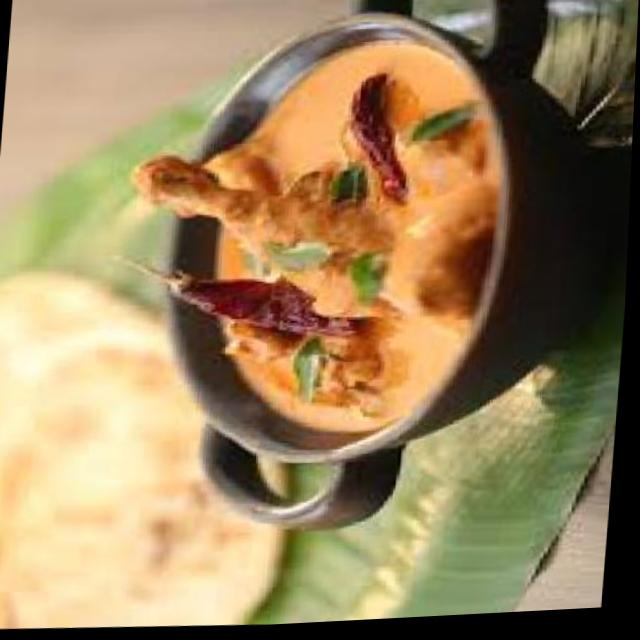CHICKEN CURRY: (118, 38, 498, 432)
